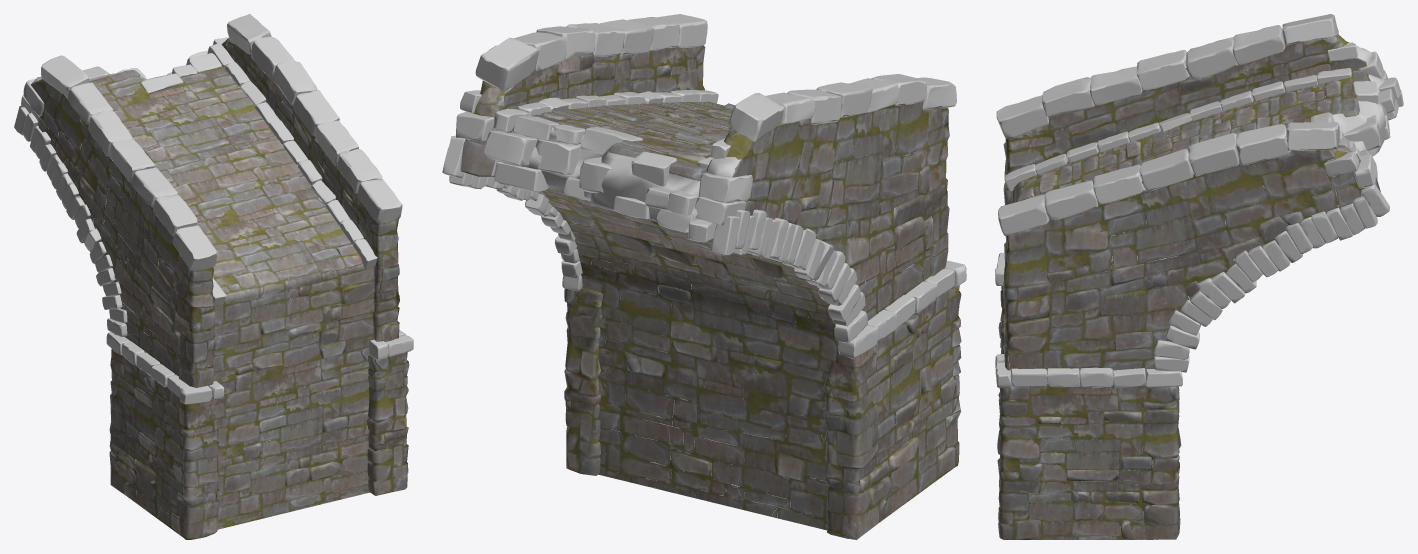
3 renders of one model, left to right at view 1: azimuth 30°, elevation 25°; view 2: azimuth 150°, elevation 25°; view 3: azimuth 270°, elevation 25°, orthographic. The views are drawn at different scales.
Visible parts, largest first — view 1: SM_River_Bridge_01v2_LOD0; view 2: SM_River_Bridge_01v2_LOD0; view 3: SM_River_Bridge_01v2_LOD0.
Boxes of the visible parts, x1,y1,x2,y2 form: SM_River_Bridge_01v2_LOD0: [14, 14, 413, 539]; SM_River_Bridge_01v2_LOD0: [442, 14, 966, 539]; SM_River_Bridge_01v2_LOD0: [995, 14, 1403, 539].
Size of the model in its own units: 5.56 by 8.69 by 7.76.
